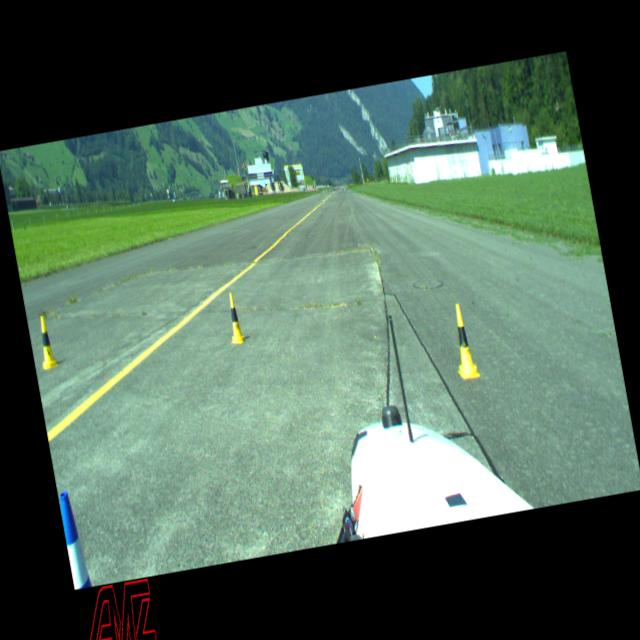blue_cone: (58, 489, 92, 588)
yellow_cone: (446, 302, 480, 379), (34, 314, 58, 369), (222, 291, 246, 344)
